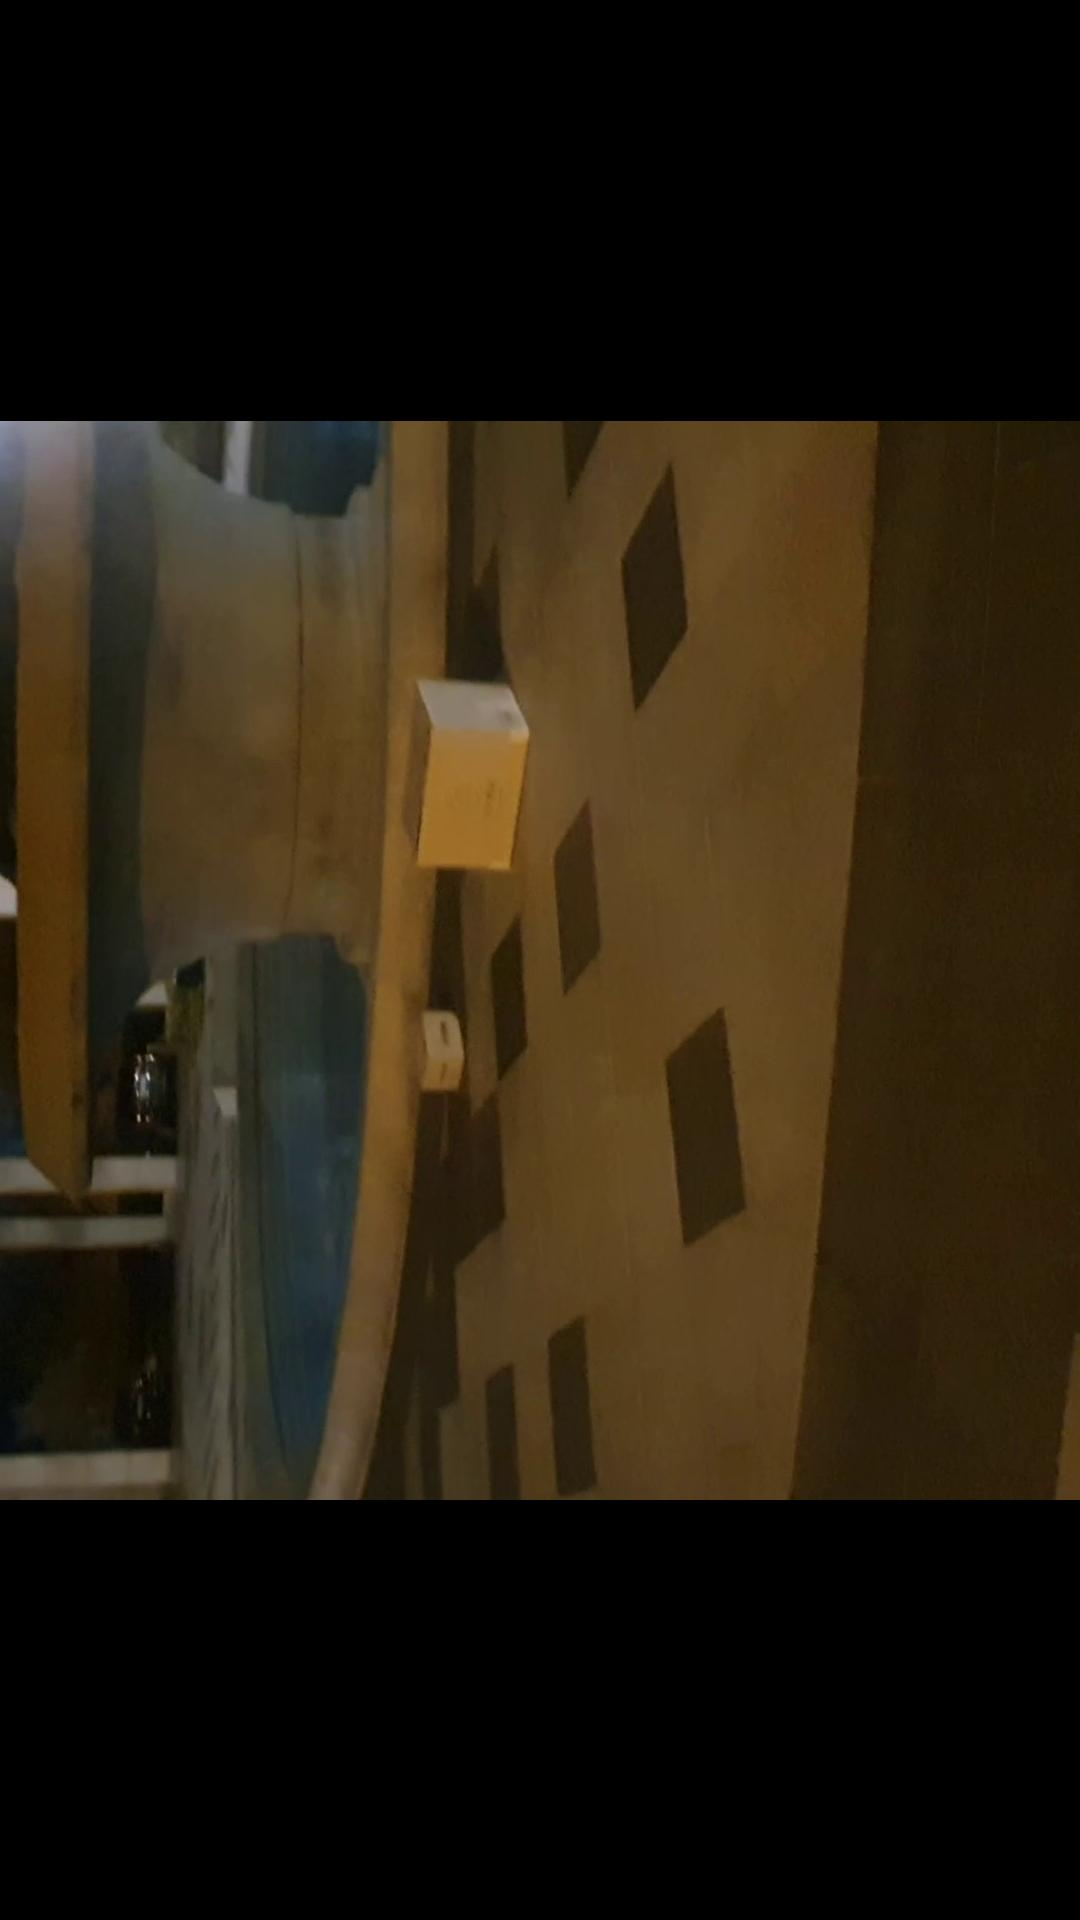Box: (398, 653, 525, 877), (380, 1015, 465, 1092)
